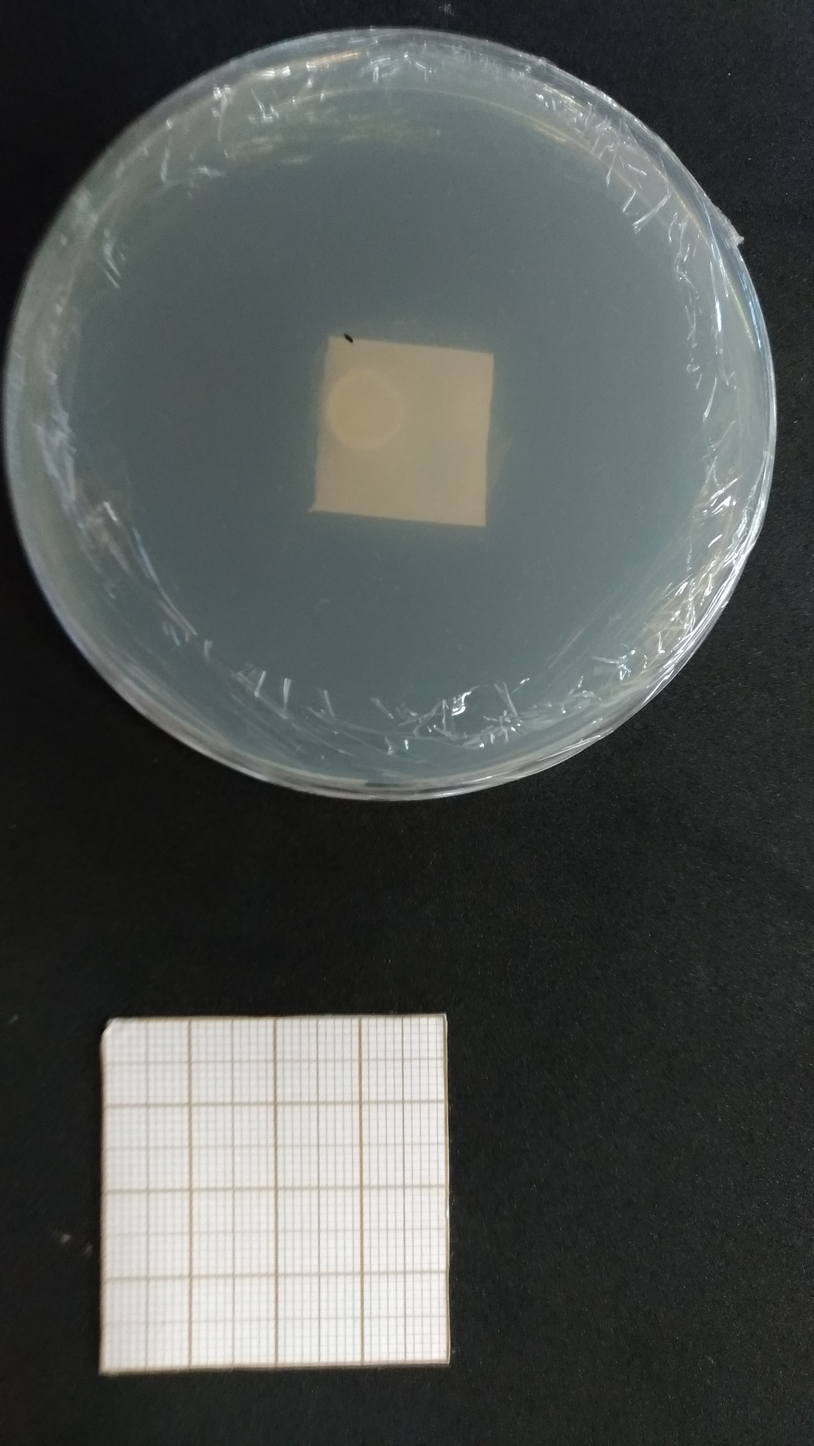escala: (99, 1014, 447, 1371)
fungo: (322, 371, 405, 449)
